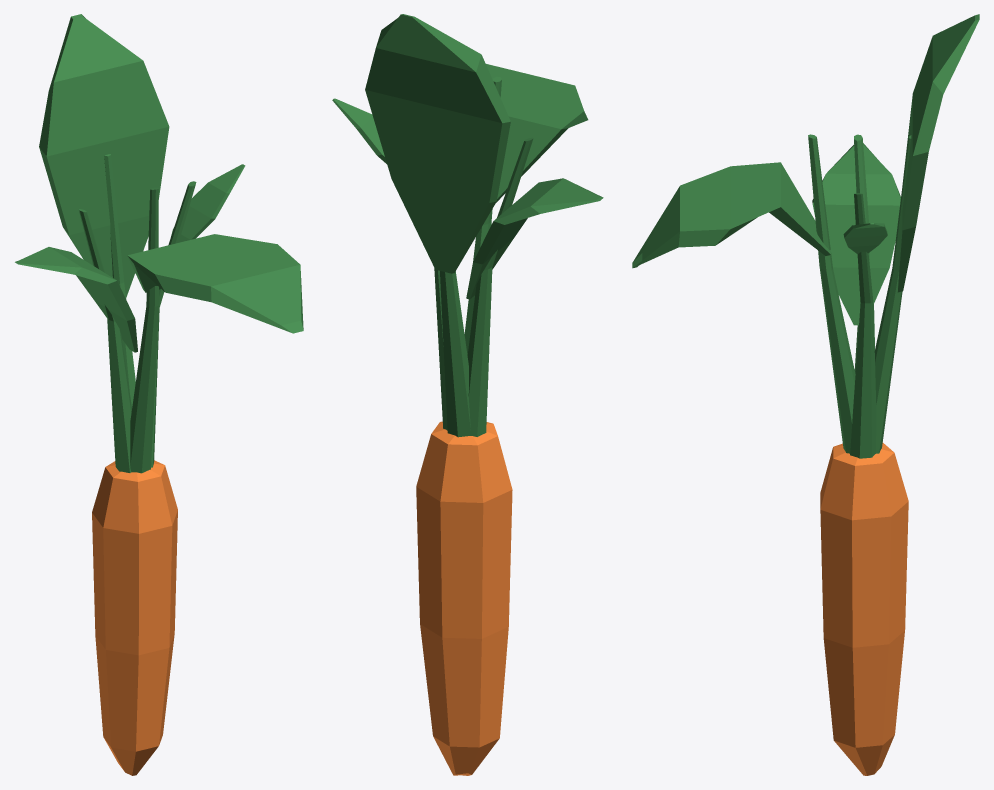
Rendered from carrot.fbx.
The picture shows the model from 3 angles, left to right: view 1: azimuth 30°, elevation 25°; view 2: azimuth 150°, elevation 25°; view 3: azimuth 270°, elevation 25°; orthographic projection. The views are drawn at different scales.
Parts seen in each view (by area): view 1: carrot; view 2: carrot; view 3: carrot.
Part boxes in pixels (<box>): carrot: <box>15,14,303,775</box>; carrot: <box>332,14,603,775</box>; carrot: <box>632,14,979,775</box>.
Size of the model in its own units: 34.88 by 102 by 42.64.
